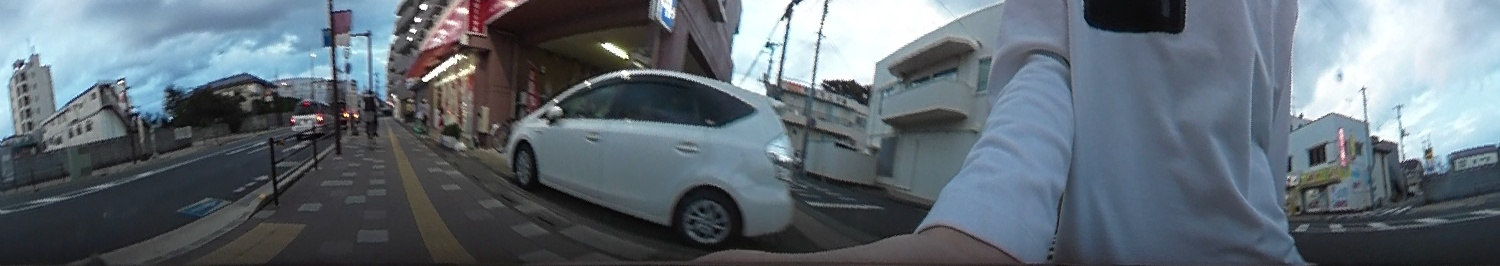difficult_person: (361, 87, 378, 139), (416, 95, 431, 134)
